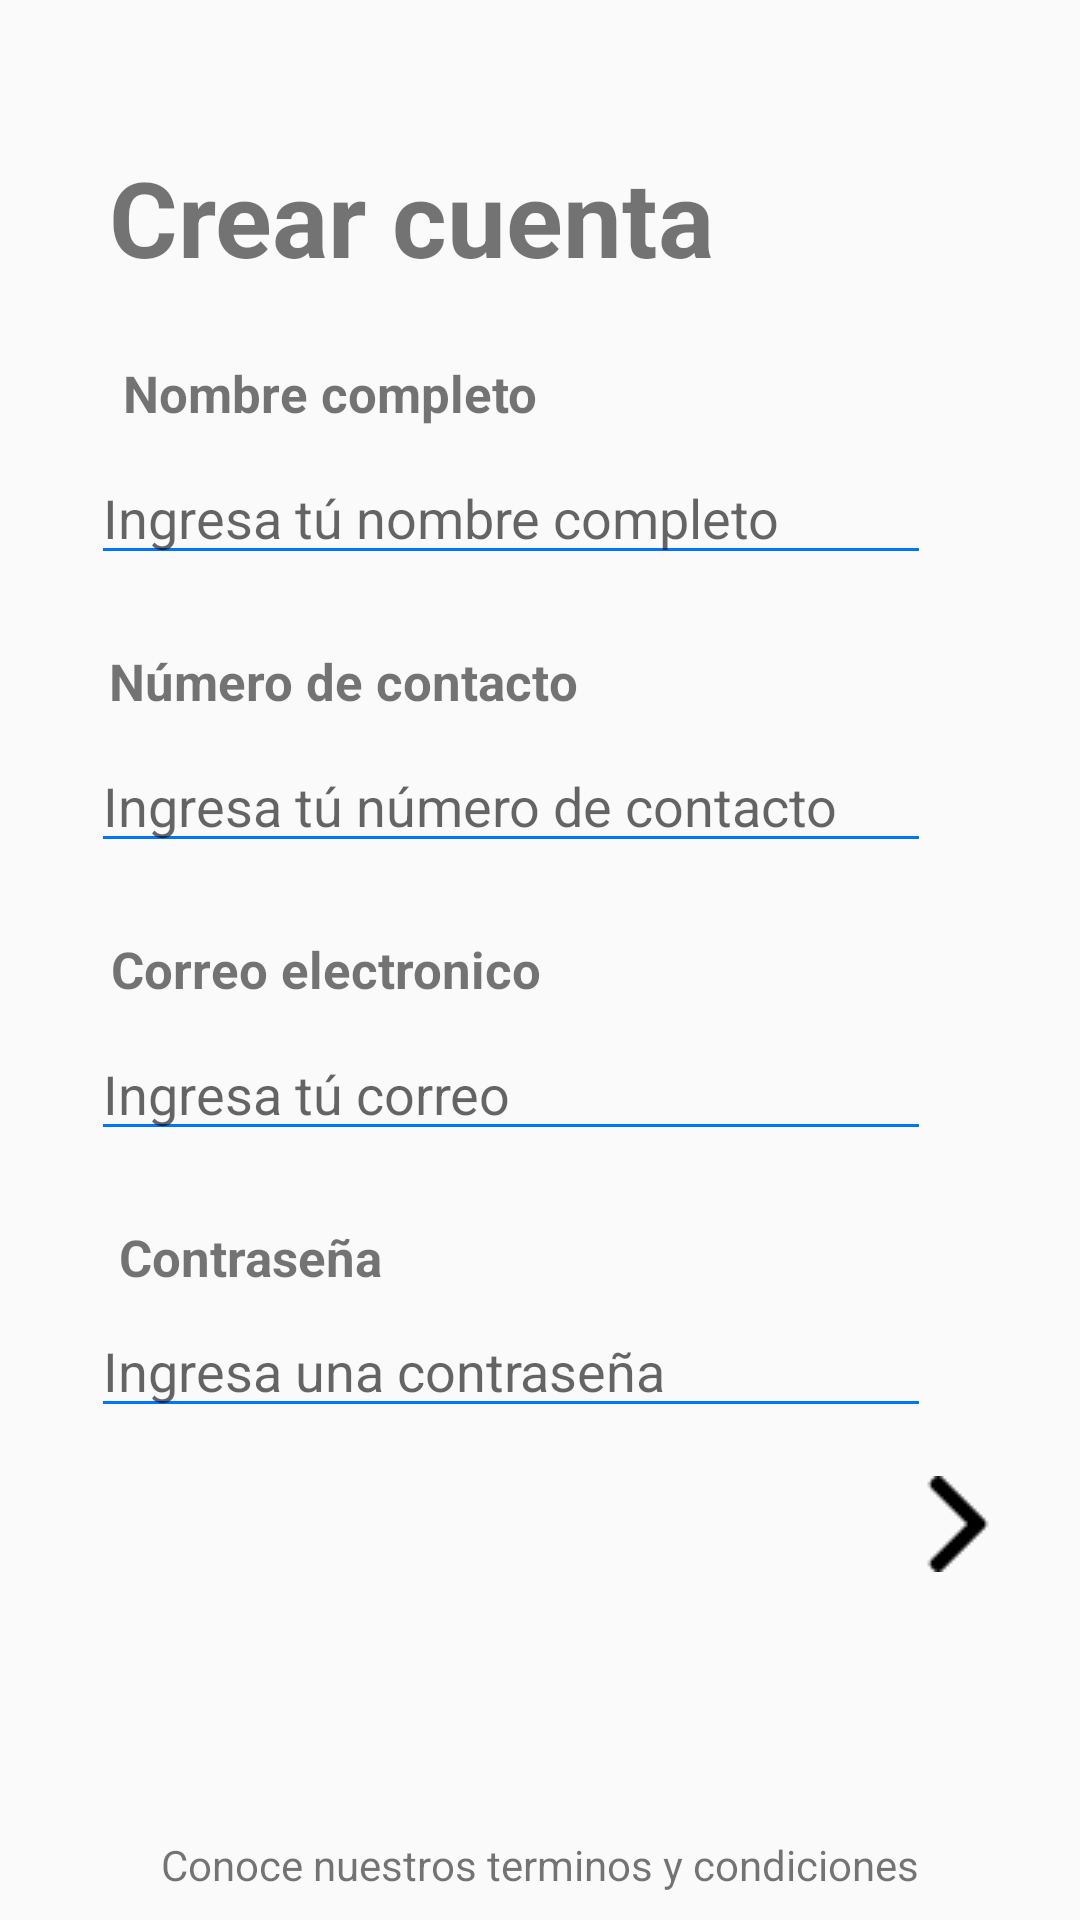

Where icons sit on this 1080×1920 app screen, as [x1,y1,x2,y2]:
flecha: [927,1476,988,1572]
